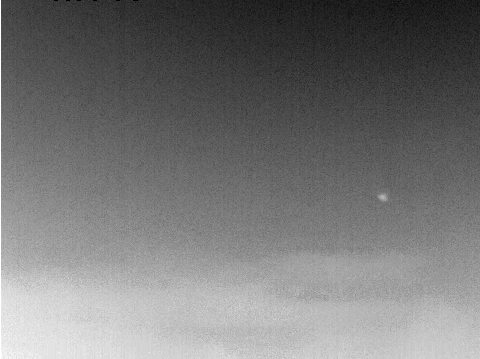dim target: (376, 192, 388, 202)
